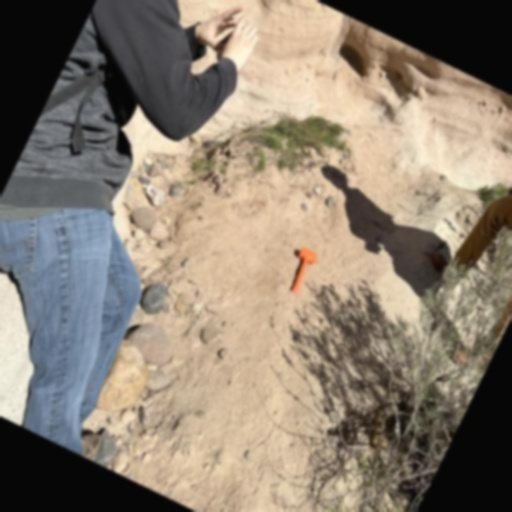mallet: (282, 246, 317, 295)
